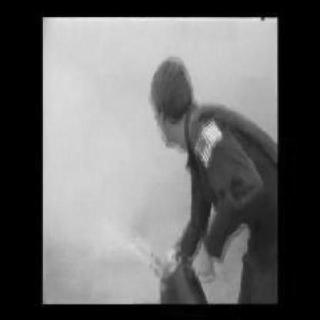other: (130, 233, 223, 301)
